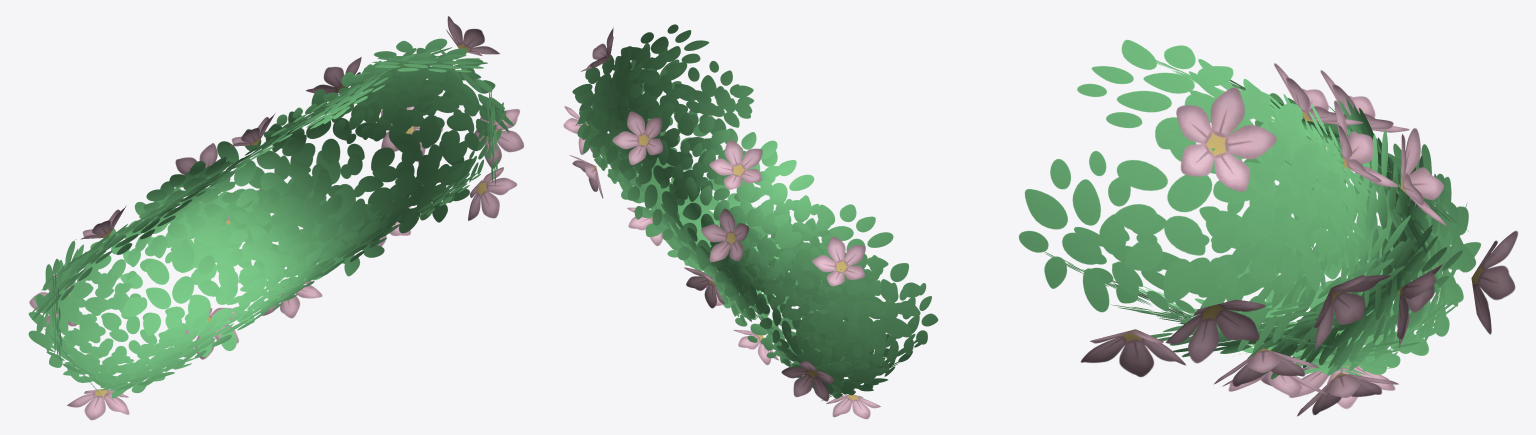
The model's file is qn_bush_small.glb.
The picture shows the model from 3 angles, left to right: view 1: azimuth 30°, elevation 25°; view 2: azimuth 150°, elevation 25°; view 3: azimuth 270°, elevation 25°; orthographic projection. The views are drawn at different scales.
Parts seen in each view (by area): view 1: Bush_Small_Flowers.001; view 2: Bush_Small_Flowers.001; view 3: Bush_Small_Flowers.001.
Boxes of the visible parts, x1,y1,x2,y2 form: Bush_Small_Flowers.001: (28,16,523,420); Bush_Small_Flowers.001: (563,24,938,419); Bush_Small_Flowers.001: (1019,40,1517,416).
Size of the model in its own units: 1.83 by 1.29 by 1.13.
Materials: 2 (2 with a texture image).
